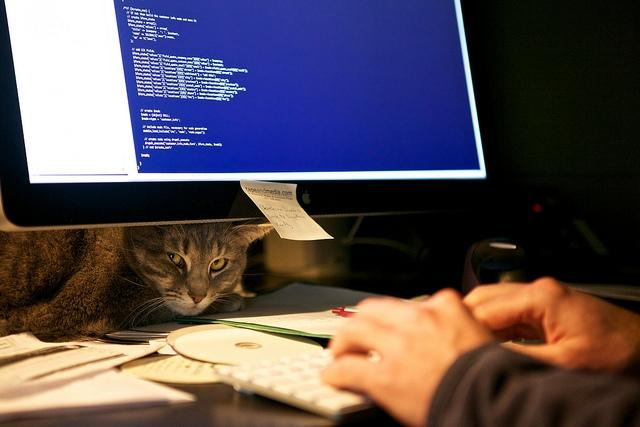apple: (302, 190, 310, 204)
